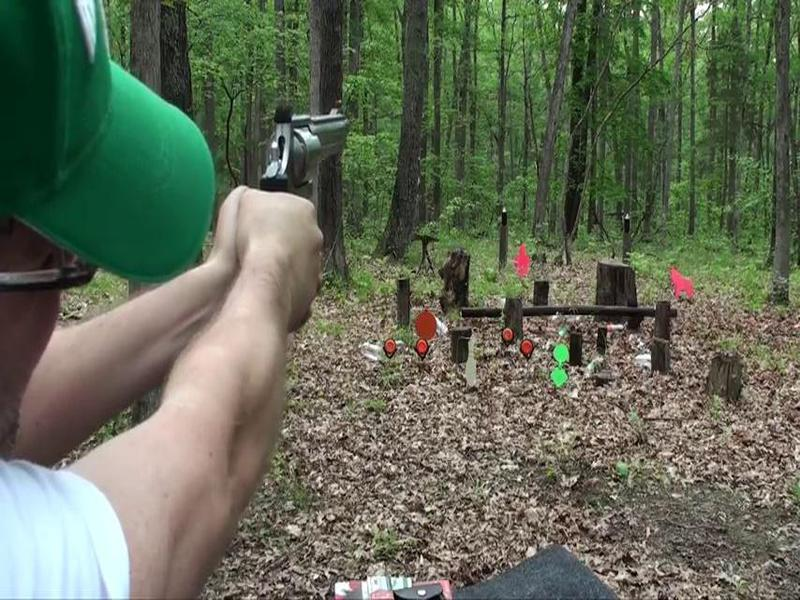Revolver: (262, 92, 366, 210)
